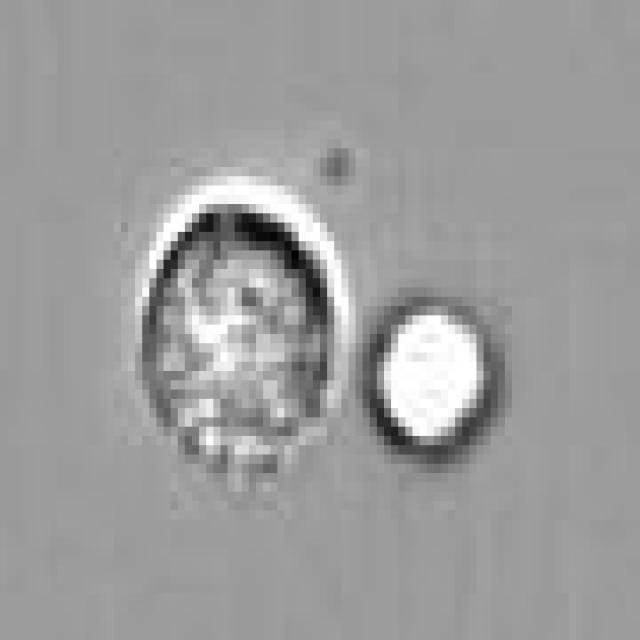Cancer Cell: (142, 195, 342, 464)
WBC: (377, 306, 498, 464)
